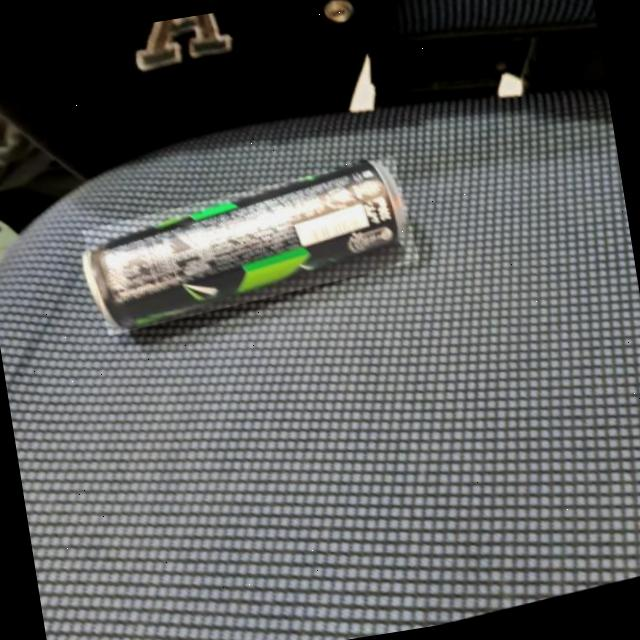trash: (71, 142, 488, 349)
